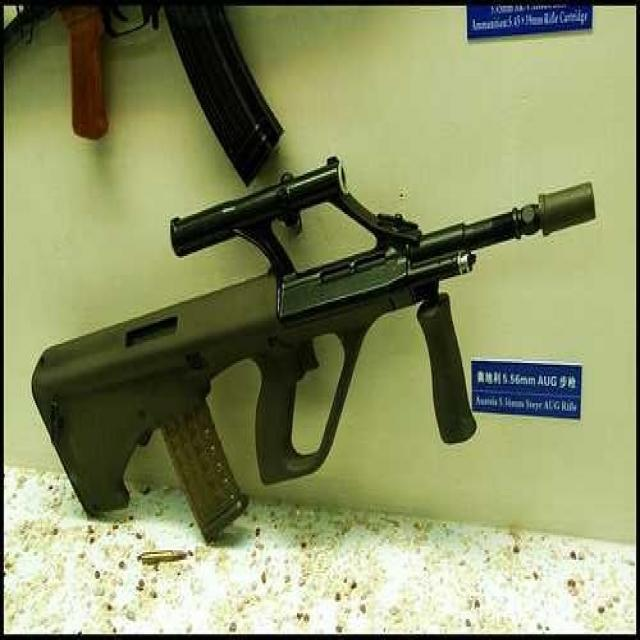Rifle: (28, 119, 603, 546)
